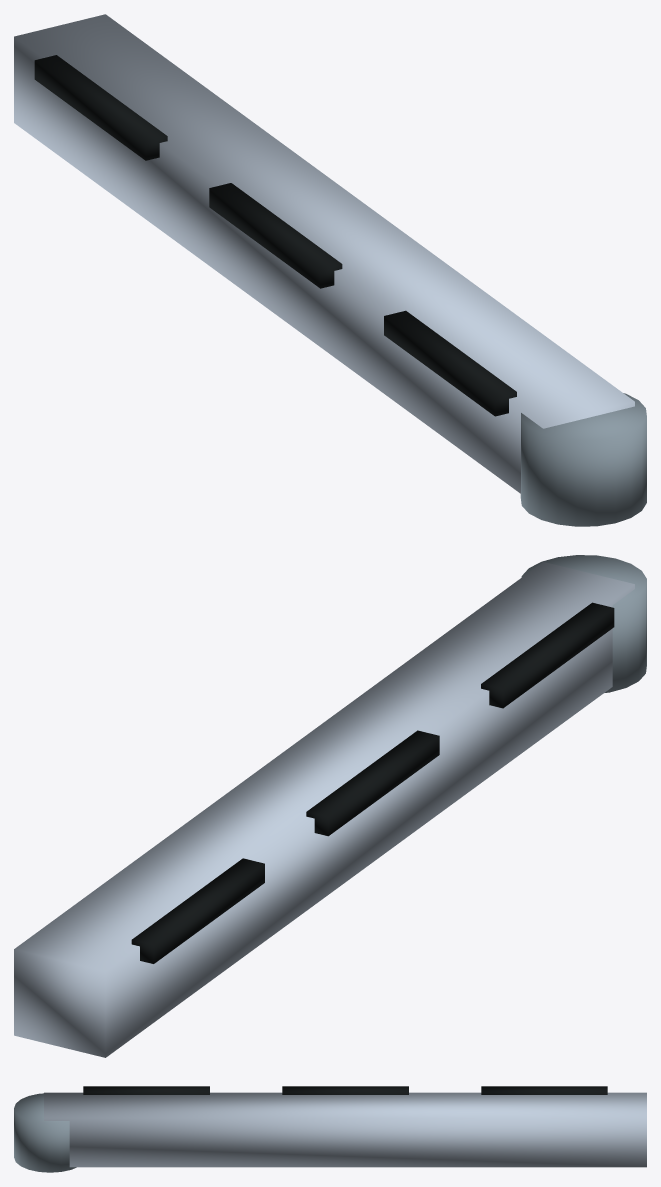
Rendered from 04_L94_FixtureClampRight.fbx.
3 renders of one model, top to bottom at view 1: azimuth 30°, elevation 25°; view 2: azimuth 150°, elevation 25°; view 3: azimuth 270°, elevation 25°, orthographic. The views are drawn at different scales.
Visible parts, largest first — view 1: L94_FixtureClampRight_Part_0000, L94_FixtureClampRight_Part_0001, L94_FixtureClampRight_Part_0002; view 2: L94_FixtureClampRight_Part_0000, L94_FixtureClampRight_Part_0001, L94_FixtureClampRight_Part_0002; view 3: L94_FixtureClampRight_Part_0000, L94_FixtureClampRight_Part_0002, L94_FixtureClampRight_Part_0001.
Part boxes in pixels (x1,y1,x2,y2): L94_FixtureClampRight_Part_0000: [14, 14, 634, 493]; L94_FixtureClampRight_Part_0001: [34, 55, 516, 416]; L94_FixtureClampRight_Part_0002: [520, 393, 646, 526]; L94_FixtureClampRight_Part_0000: [14, 562, 634, 1057]; L94_FixtureClampRight_Part_0001: [131, 602, 614, 963]; L94_FixtureClampRight_Part_0002: [521, 555, 646, 692]; L94_FixtureClampRight_Part_0000: [44, 1092, 646, 1167]; L94_FixtureClampRight_Part_0002: [14, 1093, 76, 1172]; L94_FixtureClampRight_Part_0001: [83, 1086, 607, 1094].
Bounding box in the file's own units: 12.5 × 10 × 105.
